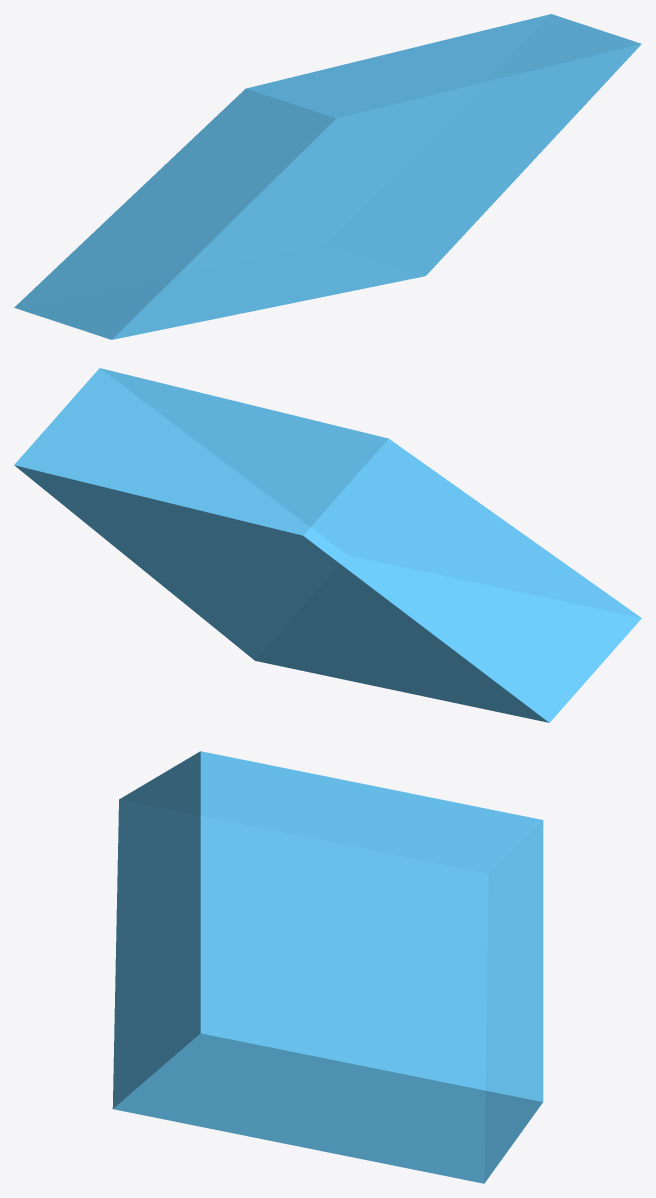
Rendered from Event_420107950_HBrechit_11.fbx.
3 renders of one model, top to bottom at view 1: azimuth 30°, elevation 25°; view 2: azimuth 150°, elevation 25°; view 3: azimuth 270°, elevation 25°, orthographic. The views are drawn at different scales.
Parts seen in each view (by area): view 1: Model; view 2: Model; view 3: Model.
Boxes of the visible parts, box(x1,y1,x2,y2) form: Model: box(14, 14, 641, 339); Model: box(14, 368, 641, 722); Model: box(112, 751, 543, 1183).
Bounding box in the file's own units: 1.38 × 0.469 × 0.4926.
